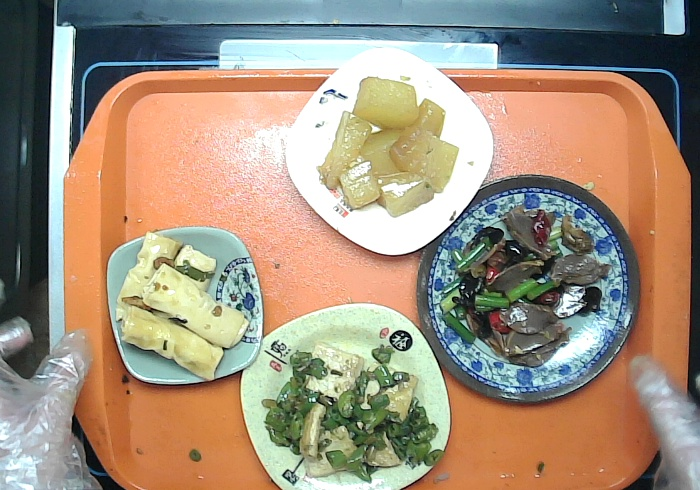NLDX-Bai_Se_Xiao_Fang_Die: (282, 45, 495, 257)
NLDX-Fu_Zi_Fang_Die: (238, 303, 452, 490)
NLDX-Qing_Hua_Xiao_Fang_Die: (105, 226, 264, 385)
NLDX-Qing_Hua_Yuan_Die: (415, 173, 641, 409)
